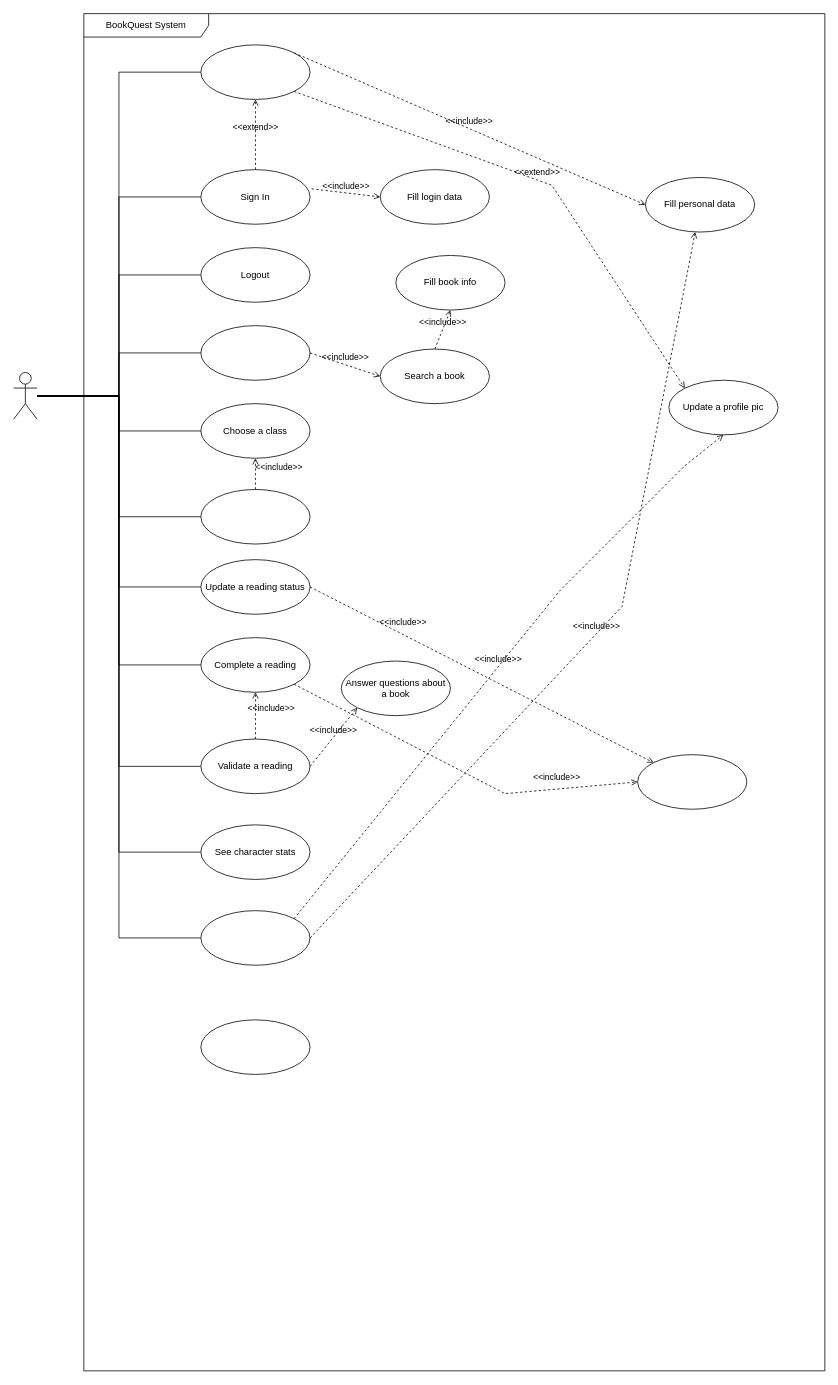
Image size: 838x1385. Some labels were removed from this diagram. Here are the shapes that lost their labels. From the top down, the box of each, then its label:
(200, 44, 310, 99): Sign Up
(200, 325, 310, 380): Include a reading
(13, 372, 37, 419): User
(200, 489, 310, 544): Call for Master help
(637, 754, 747, 809): List readings
(200, 910, 310, 965): Edit account info
(200, 1019, 310, 1074): See bookshelf
